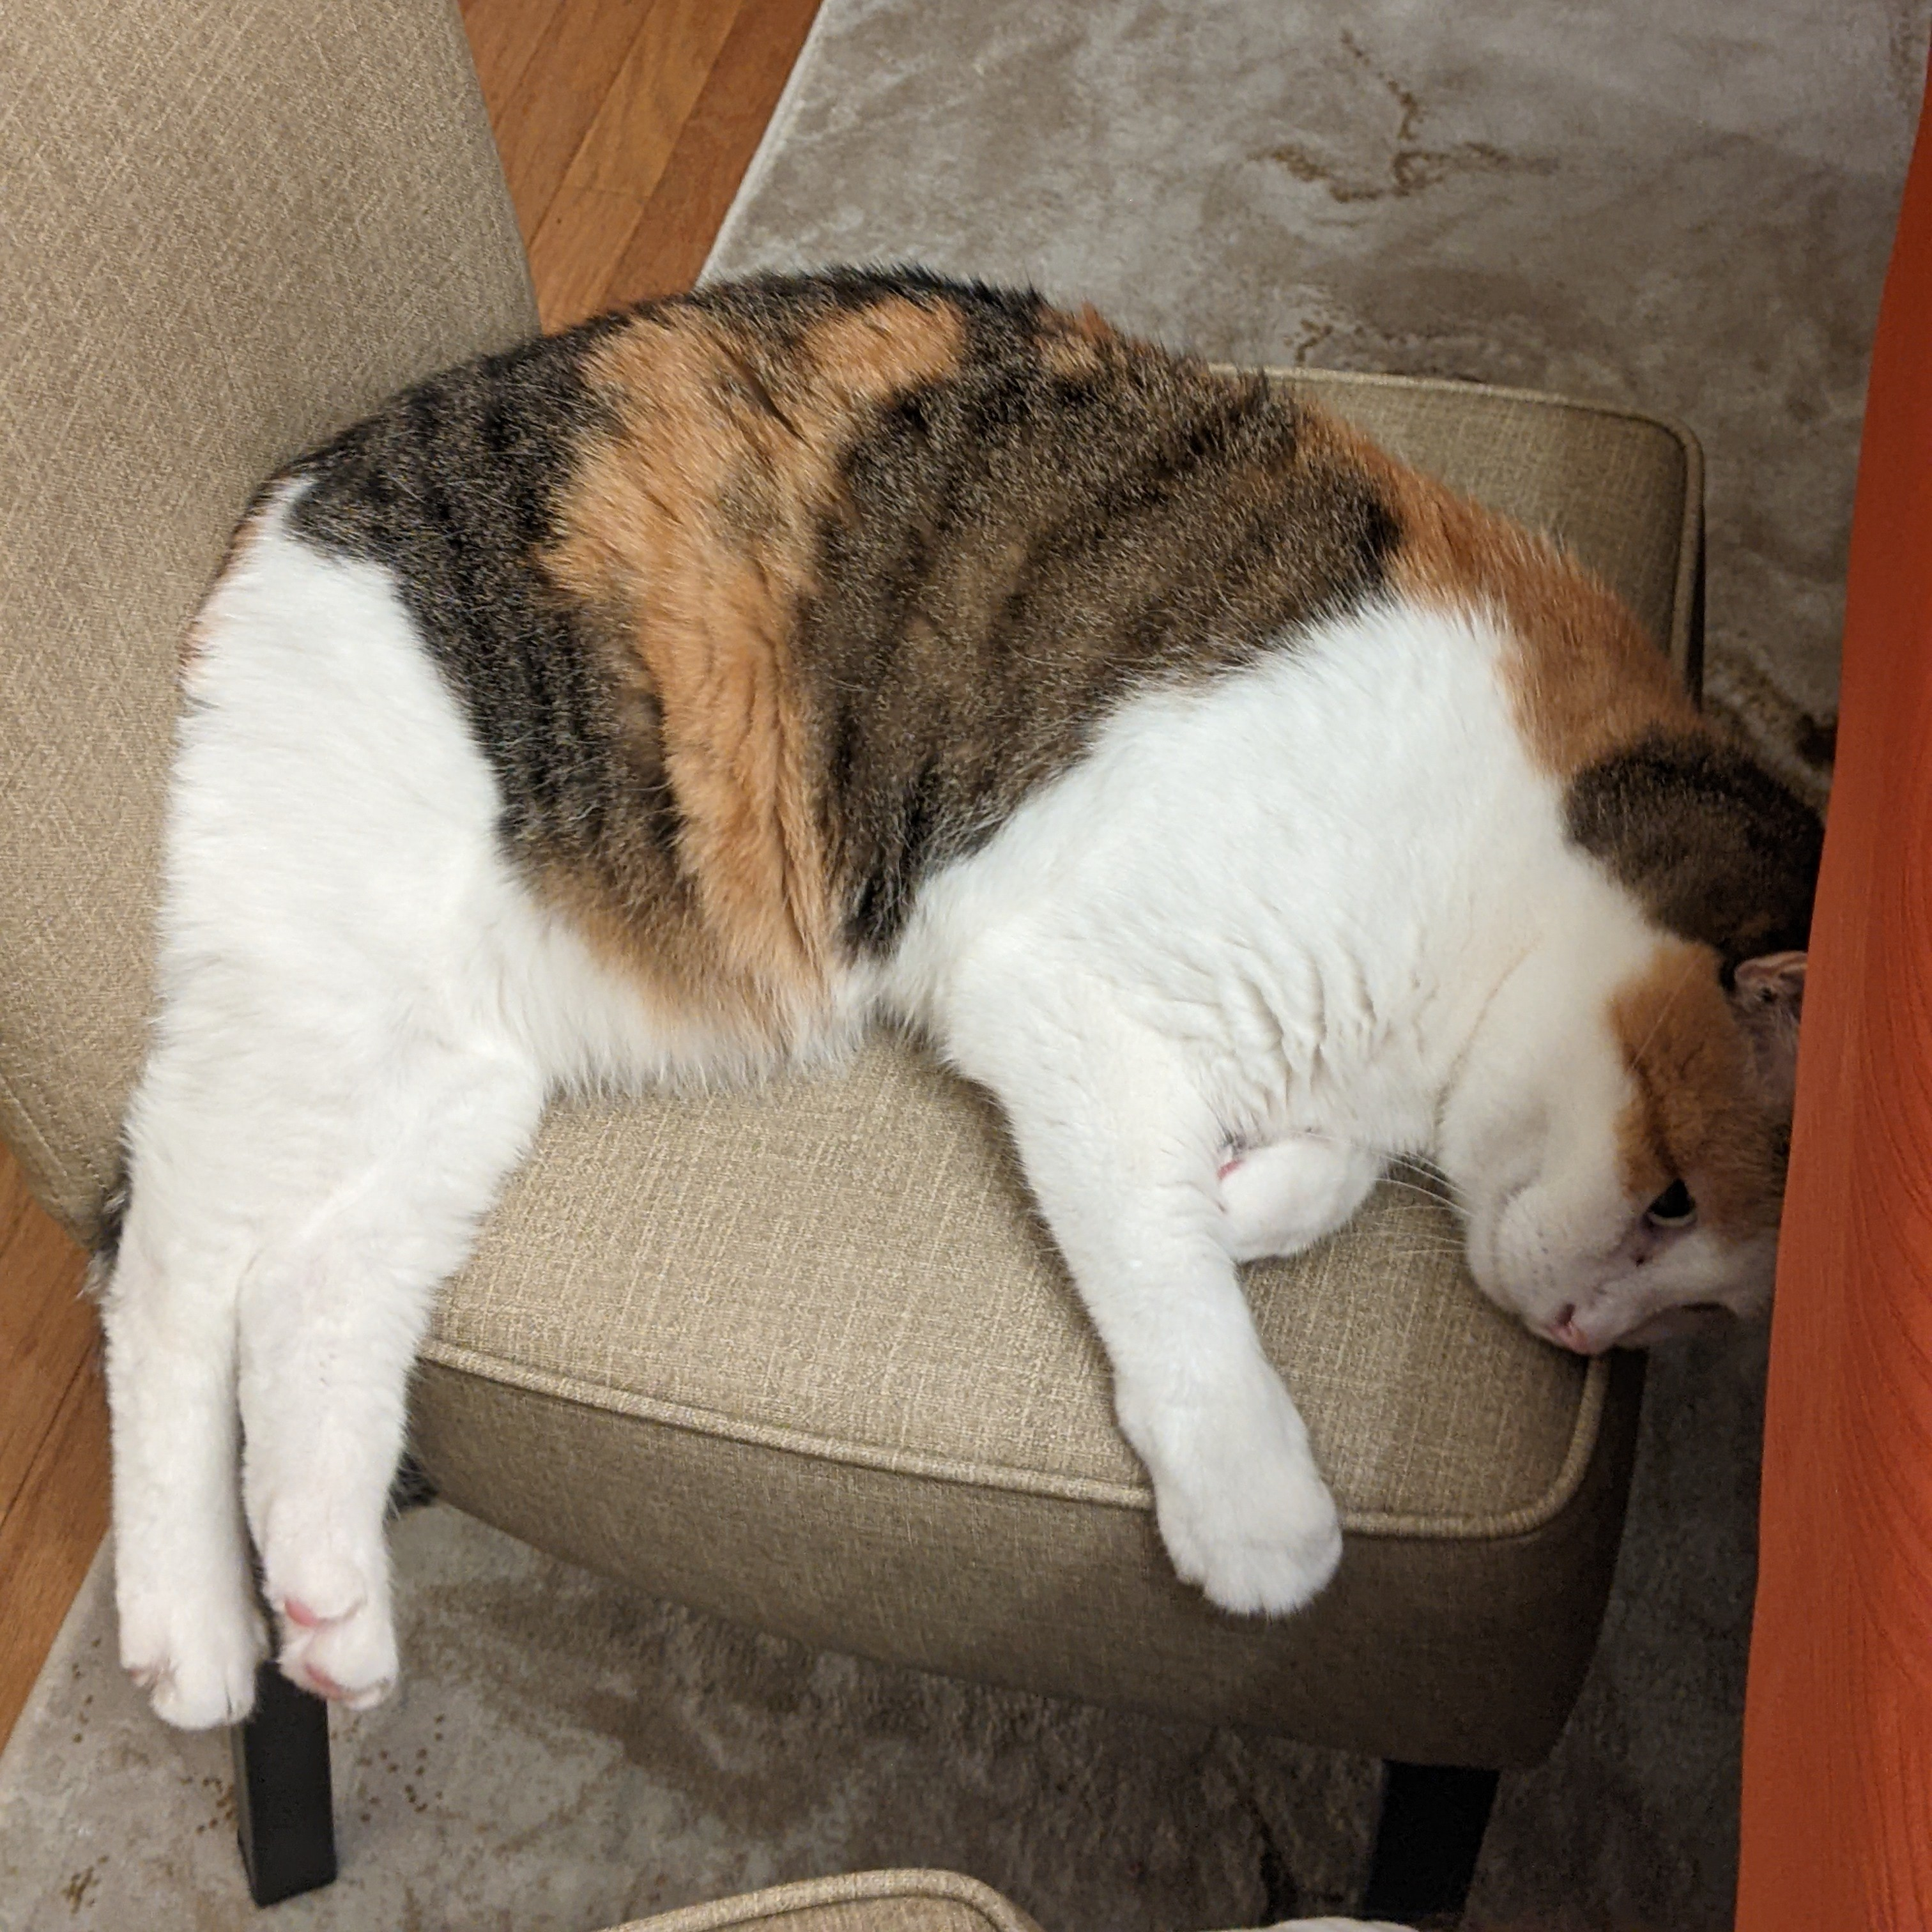Calico: (104, 267, 1831, 1734)
